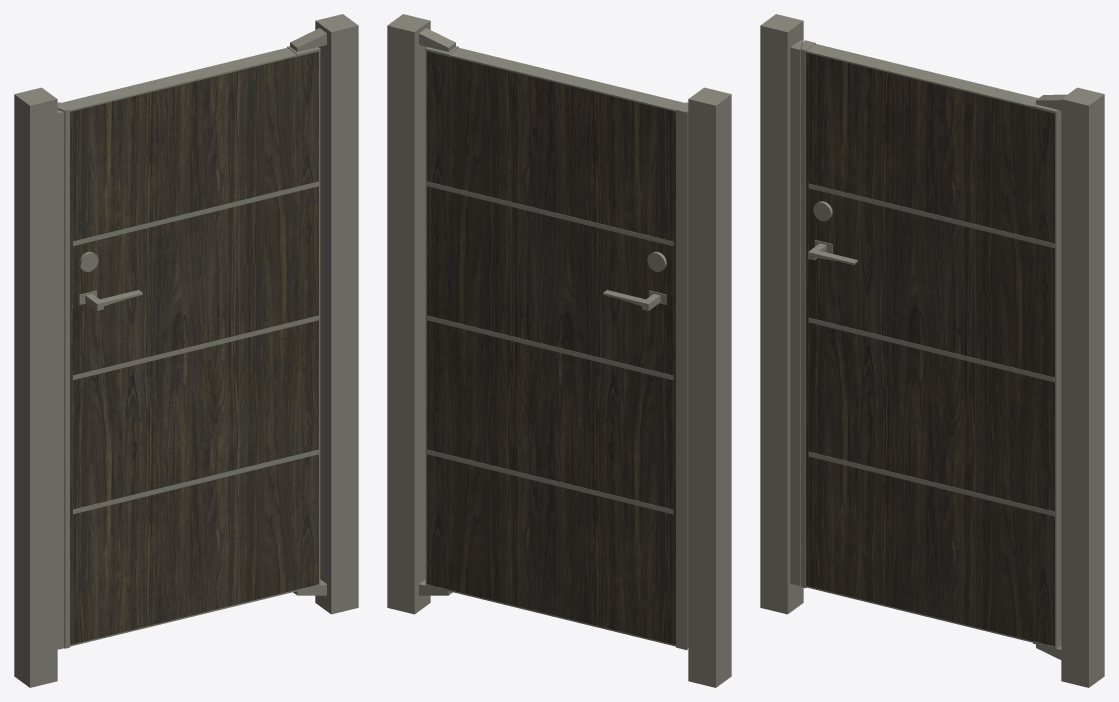
The model's file is abmonpi-line_h1400-w700_blackebony.fbx.
The picture shows the model from 3 angles, left to right: view 1: azimuth 30°, elevation 25°; view 2: azimuth 150°, elevation 25°; view 3: azimuth 330°, elevation 25°; orthographic projection.
Parts seen in each view (by area): view 1: abmonpi-line_h1400-w700_rustycopper.001; view 2: abmonpi-line_h1400-w700_rustycopper.001; view 3: abmonpi-line_h1400-w700_rustycopper.001.
Boxes of the visible parts, x1,y1,x2,y2 form: abmonpi-line_h1400-w700_rustycopper.001: (14, 14, 358, 687); abmonpi-line_h1400-w700_rustycopper.001: (387, 14, 731, 687); abmonpi-line_h1400-w700_rustycopper.001: (760, 14, 1104, 687).
Bounding box in the file's own units: 89.8 × 152 × 16.7.
2 materials, 2 textured.
